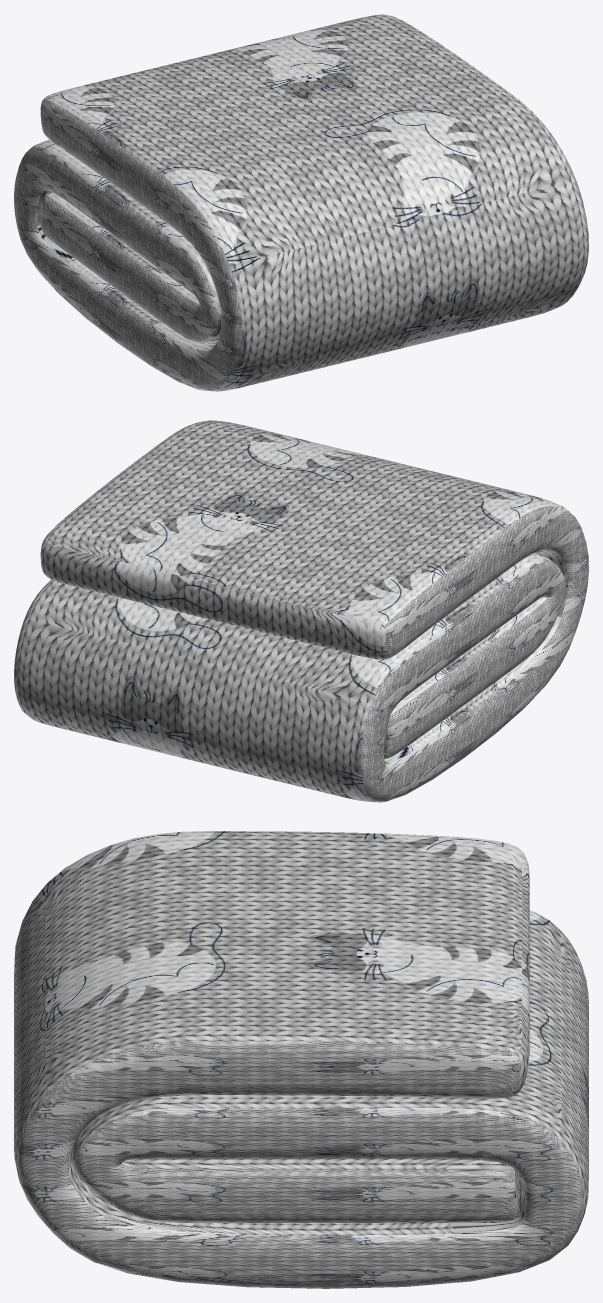
The model's file is blanket-transformed.glb.
The picture shows the model from 3 angles, top to bottom: view 1: azimuth 30°, elevation 25°; view 2: azimuth 150°, elevation 25°; view 3: azimuth 270°, elevation 25°; orthographic projection. The views are drawn at different scales.
Visible parts, largest first — view 1: Plane; view 2: Plane; view 3: Plane.
Part boxes in pixels (x1,y1,x2,y2): Plane: (14, 14, 588, 391); Plane: (14, 420, 588, 802); Plane: (14, 831, 588, 1288).
Size of the model in its own units: 1.57 by 0.8771 by 1.76.
1 material, 1 textured.
